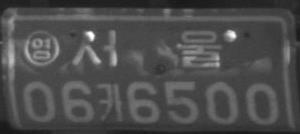0: (244, 81, 280, 127), (204, 79, 239, 125), (22, 80, 56, 123)
5: (162, 79, 200, 126)
6: (125, 79, 161, 124), (60, 78, 94, 123)
서울_D: (71, 28, 222, 69)
영: (23, 28, 60, 67)
카: (94, 82, 124, 121)
